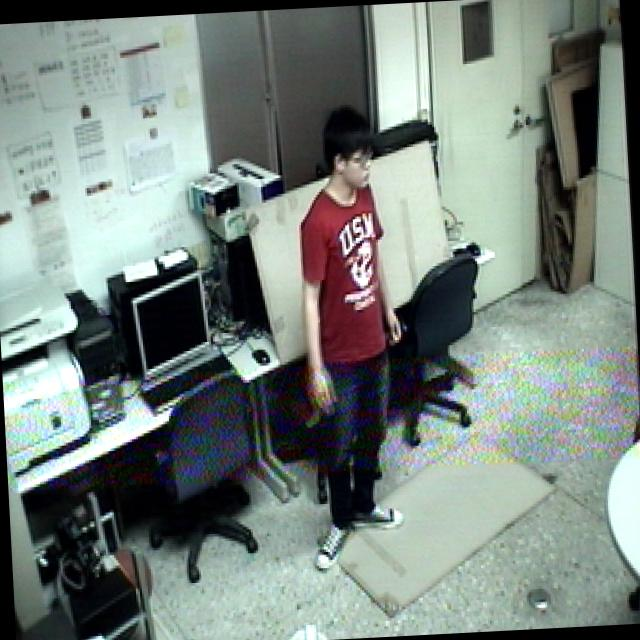stand: (270, 106, 428, 580)
